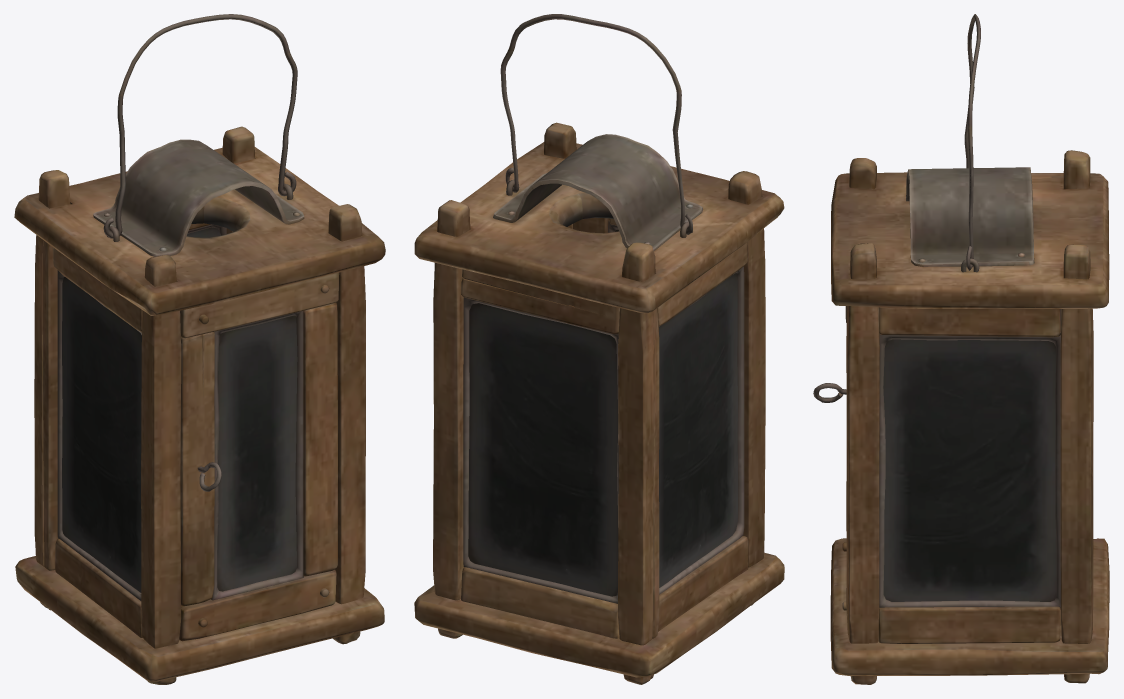
File: wooden_lantern_01.40b66c90.glb
3 renders of one model, left to right at view 1: azimuth 30°, elevation 25°; view 2: azimuth 150°, elevation 25°; view 3: azimuth 270°, elevation 25°, orthographic.
Parts seen in each view (by area): view 1: wooden_lantern_01, wooden_lantern_01_door, wooden_lantern_01_handle; view 2: wooden_lantern_01, wooden_lantern_01_handle, wooden_lantern_01_door; view 3: wooden_lantern_01, wooden_lantern_01_handle, wooden_lantern_01_door.
Boxes of the visible parts, <box> form: wooden_lantern_01: <box>14,126,385,684</box>; wooden_lantern_01_door: <box>179,272,339,641</box>; wooden_lantern_01_handle: <box>103,14,297,238</box>; wooden_lantern_01: <box>414,122,784,684</box>; wooden_lantern_01_handle: <box>500,14,692,234</box>; wooden_lantern_01_door: <box>573,217,618,233</box>; wooden_lantern_01: <box>830,150,1109,684</box>; wooden_lantern_01_handle: <box>964,14,980,270</box>; wooden_lantern_01_door: <box>813,306,847,610</box>.
Bounding box in the file's own units: 0.417 × 1 × 0.4428.
Materials: 2 (2 with a texture image).
